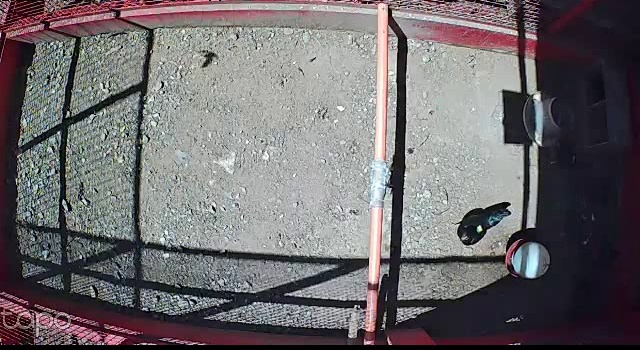Chicken: (456, 205, 511, 248)
Drinker: (504, 239, 553, 279)
Feeder: (521, 89, 575, 148)
Saddle_Color_Yellow: (477, 224, 482, 233)
